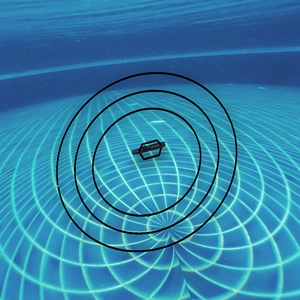circle: (45, 57, 261, 276)
submarine: (138, 137, 166, 159)
